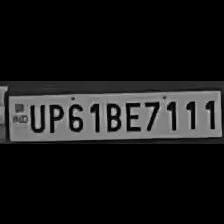1: (160, 97, 180, 130), (180, 96, 200, 128), (198, 96, 218, 128), (86, 99, 102, 131)
6: (64, 100, 84, 132)
7: (140, 97, 160, 130)
B: (101, 97, 121, 130)
E: (122, 97, 142, 130)
P: (44, 100, 64, 132)
U: (27, 100, 46, 132)
